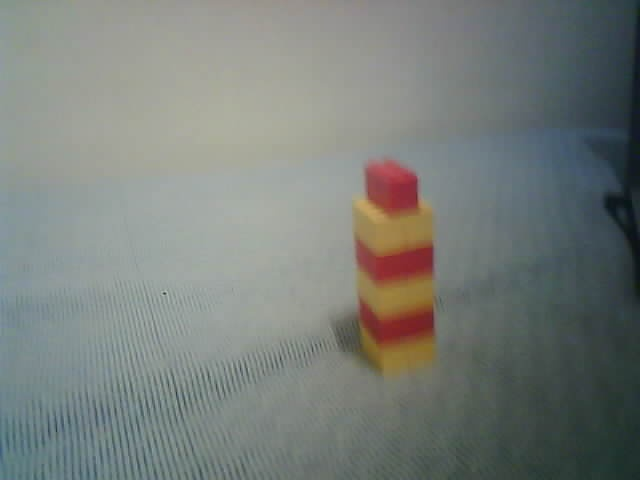lego: (351, 158, 439, 380)
